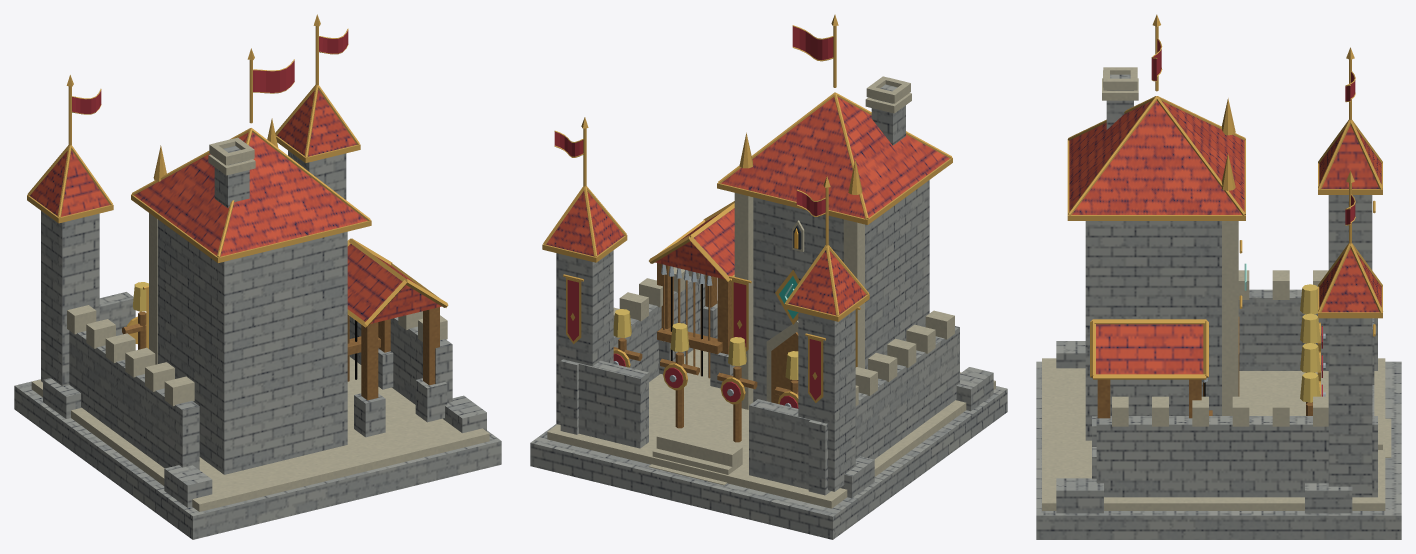
File: Barracks_3.fbx
3 views of the same model, side by side, from view 1: azimuth 30°, elevation 25°; view 2: azimuth 150°, elevation 25°; view 3: azimuth 270°, elevation 25° (orthographic). The views are drawn at different scales.
Visible parts, largest first — view 1: BuildingBody, FlagCloth_00; view 2: BuildingBody, FlagCloth_00; view 3: BuildingBody.
Boxes of the visible parts, x1,y1,x2,y2 form: BuildingBody: [14, 14, 501, 539]; FlagCloth_00: [253, 59, 294, 93]; BuildingBody: [530, 14, 1007, 539]; FlagCloth_00: [792, 25, 833, 61]; BuildingBody: [1036, 14, 1401, 539].
Bounding box in the file's own units: 1 × 1.3 × 1.
1 material, 1 textured.
